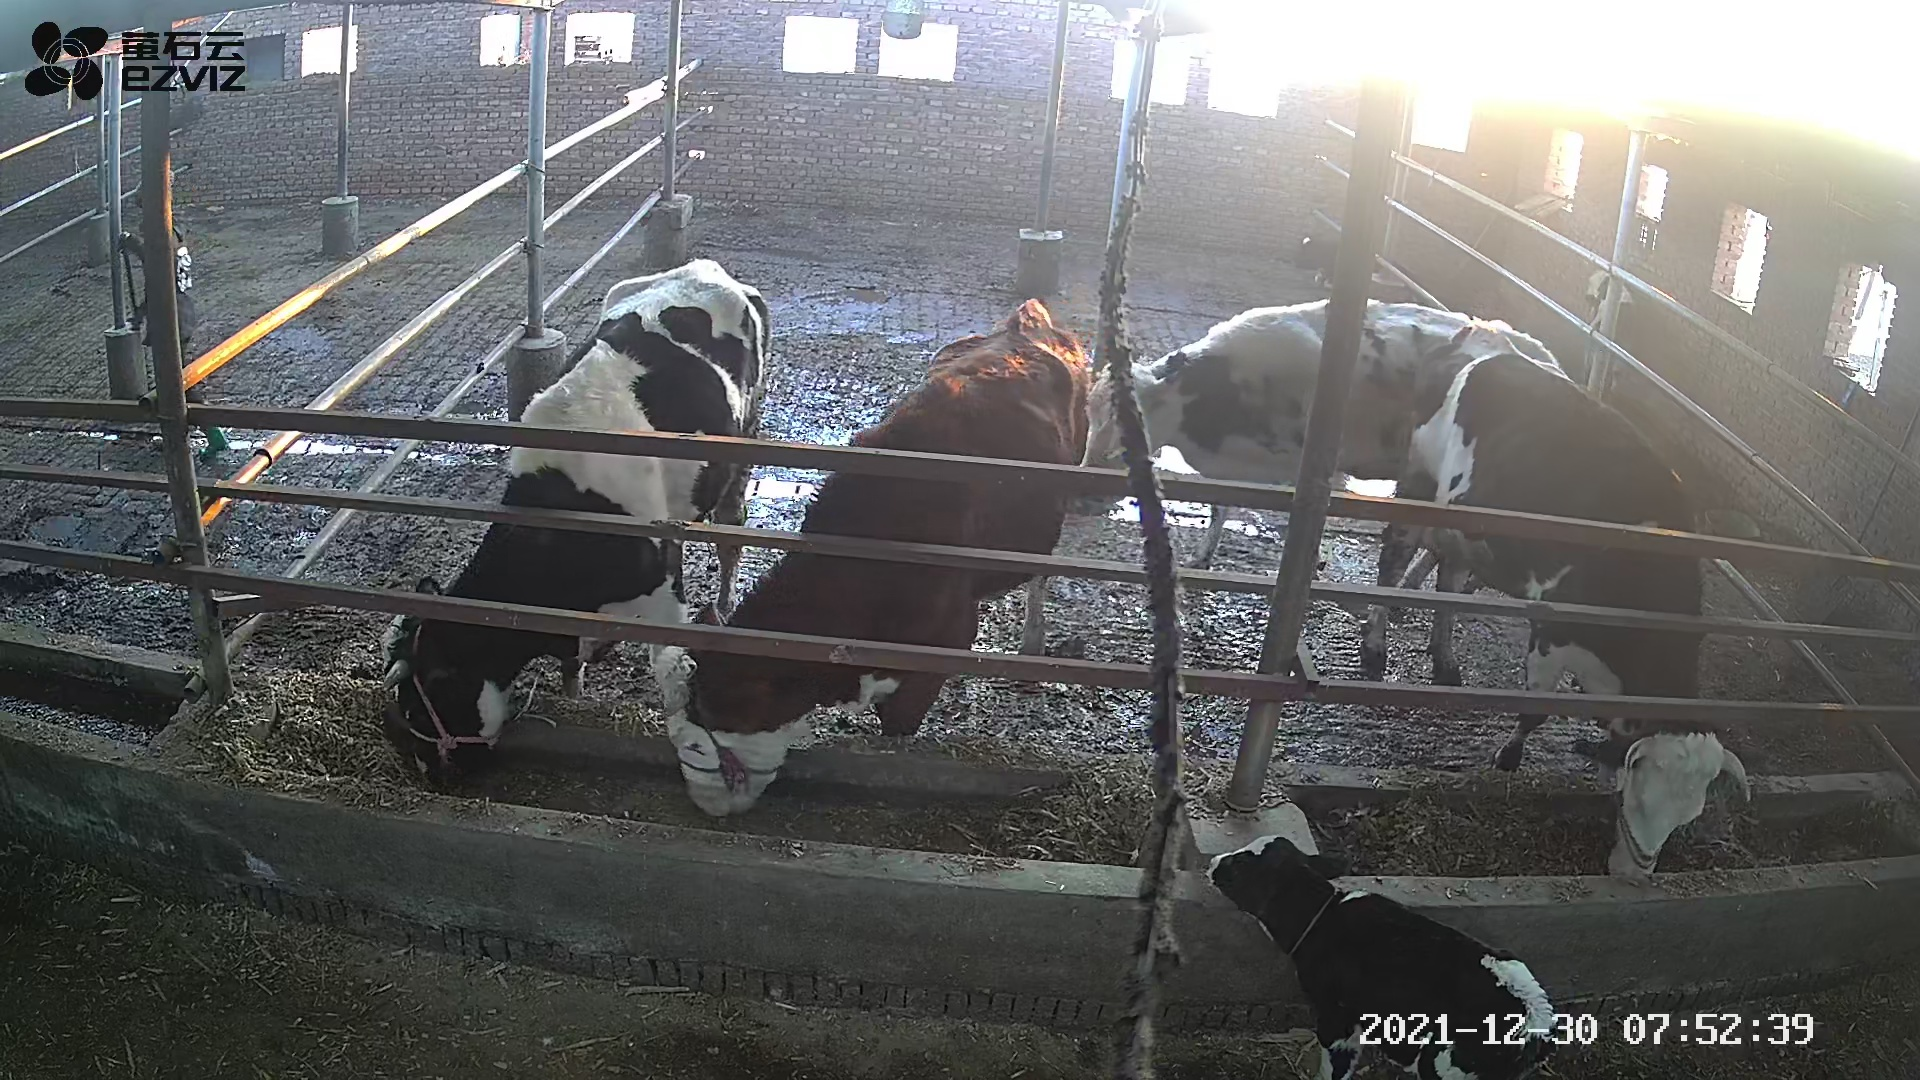cow: (1356, 316, 1754, 887), (665, 295, 1091, 820), (376, 258, 767, 787), (1088, 295, 1563, 571)
